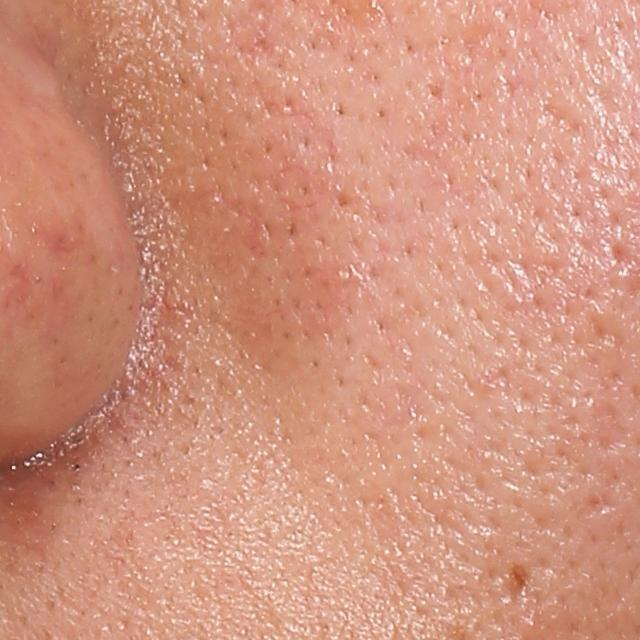atrophic_scar: (542, 89, 593, 142), (585, 490, 622, 517)
nevus: (510, 563, 530, 595)
